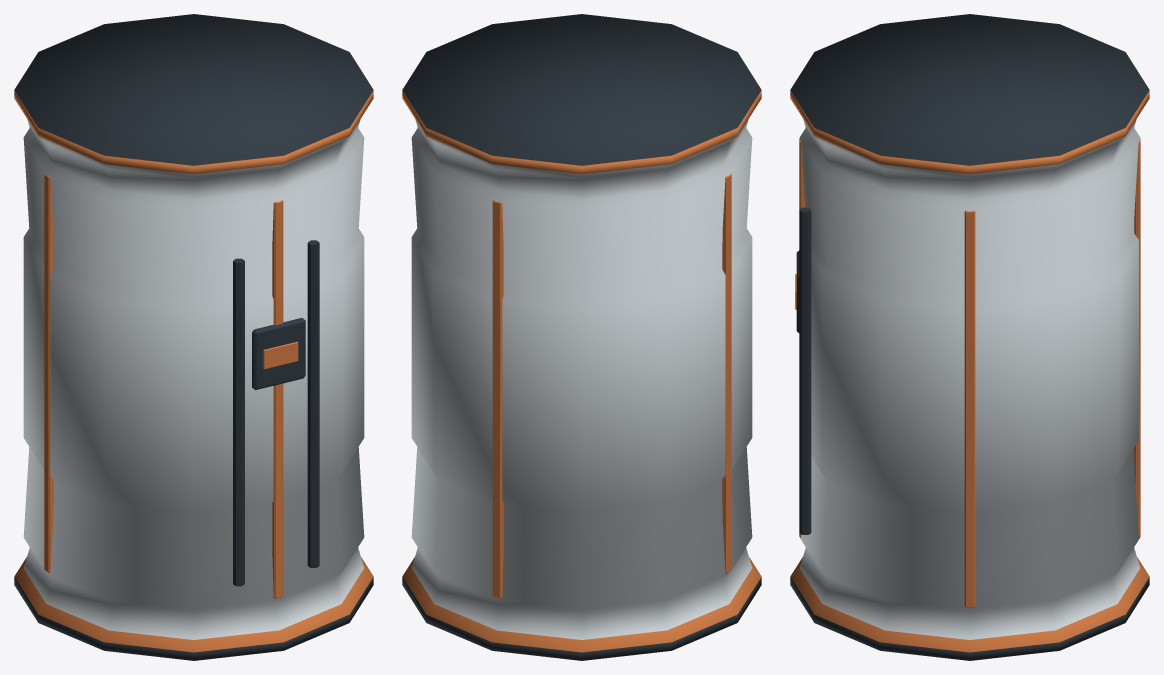
File: perilune-hv1600-tank.glb
The picture shows the model from 3 angles, left to right: view 1: azimuth 30°, elevation 25°; view 2: azimuth 150°, elevation 25°; view 3: azimuth 270°, elevation 25°; orthographic projection.
Visible parts, largest first — view 1: SM_HV1600_PressureShell_LOD0, SM_HV1600_FeedLine_02, SM_HV1600_FeedLine_01, SM_HV1600_Longeron_01, SM_HV1600_Longeron_04, SM_HV1600_ServicePanel, SM_HV1600_IdentificationPlate; view 2: SM_HV1600_PressureShell_LOD0, SM_HV1600_Longeron_03, SM_HV1600_Longeron_04; view 3: SM_HV1600_PressureShell_LOD0, SM_HV1600_Longeron_02, SM_HV1600_FeedLine_02, SM_HV1600_Longeron_03.
Boxes of the visible parts, left/top/right/bottom form: SM_HV1600_PressureShell_LOD0: left=14, top=14, right=373, bottom=660; SM_HV1600_FeedLine_02: left=307, top=240, right=319, bottom=567; SM_HV1600_FeedLine_01: left=233, top=258, right=244, bottom=586; SM_HV1600_Longeron_01: left=272, top=200, right=283, bottom=598; SM_HV1600_Longeron_04: left=44, top=173, right=53, bottom=573; SM_HV1600_ServicePanel: left=252, top=318, right=305, bottom=389; SM_HV1600_IdentificationPlate: left=263, top=341, right=298, bottom=369; SM_HV1600_PressureShell_LOD0: left=402, top=14, right=761, bottom=660; SM_HV1600_Longeron_03: left=492, top=200, right=503, bottom=598; SM_HV1600_Longeron_04: left=722, top=173, right=731, bottom=573; SM_HV1600_PressureShell_LOD0: left=790, top=14, right=1149, bottom=660; SM_HV1600_Longeron_02: left=964, top=210, right=975, bottom=607; SM_HV1600_FeedLine_02: left=799, top=207, right=811, bottom=534; SM_HV1600_Longeron_03: left=1134, top=138, right=1140, bottom=537.
Size of the model in its own units: 2.5 by 3.8 by 2.5.
